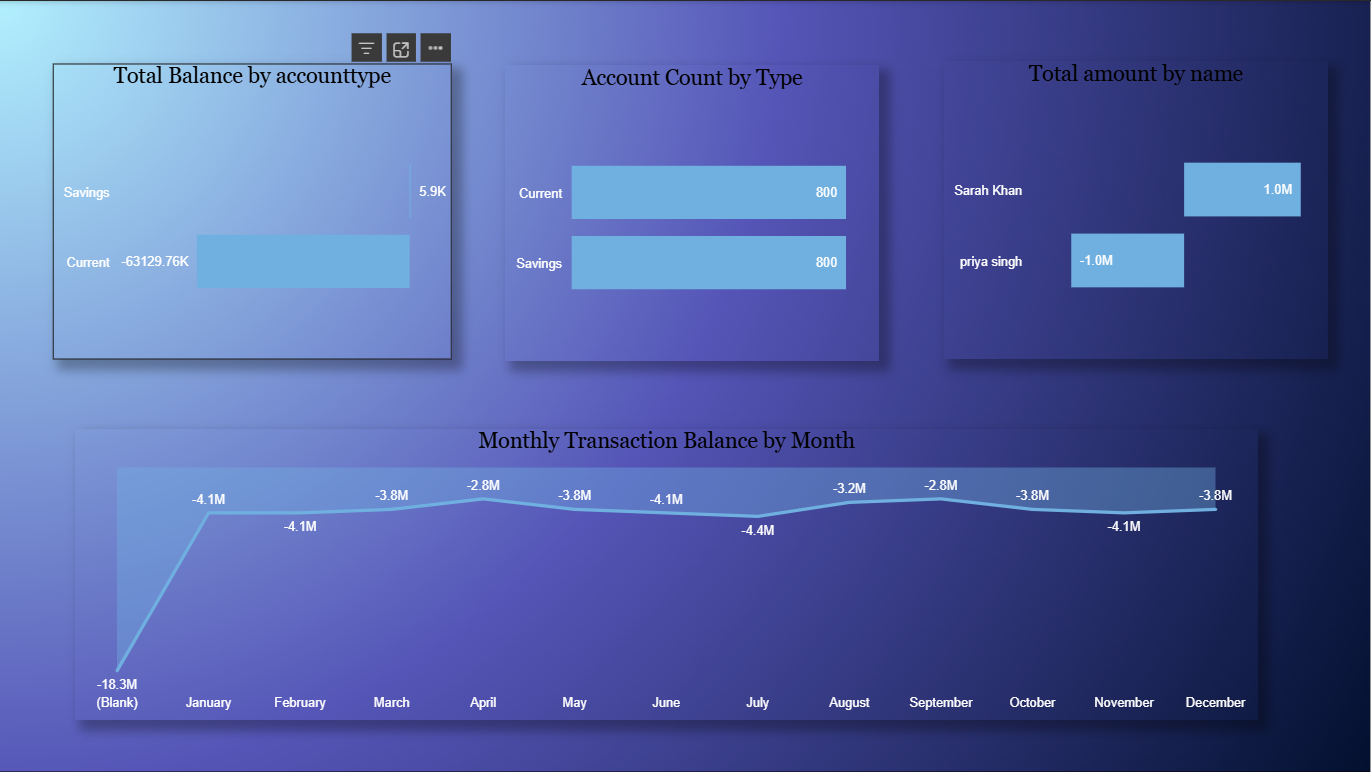

The page's visual inventory and layout, read from the dashboard file:
{"tool":"powerbi","page":{"name":"Banking data P-2","canvas":[1280,720],"ordinal":1},"visuals":[{"type":"barChart","title":"Account Count by Type ","fields":{"Category":["Combinedbankingdataset.accounttype"],"Y":["Measures table.Account Count by Type"]},"box":[475.6,59.3,347.7,275.6],"z":0},{"type":"areaChart","fields":{"Category":["Combinedbankingdataset.transactiondate.Variation.Date Hierarchy.Month"],"Y":["Measures table.Monthly Transaction Balance"]},"box":[75.6,397.7,1100,270.9],"z":1000},{"type":"barChart","fields":{"Category":["Combinedbankingdataset.accounttype"],"Y":["Measures table.Total Balance"]},"box":[54.7,58.1,370.9,275.6],"z":2000},{"type":"barChart","title":"Total amount by name","fields":{"Category":["Combinedbankingdataset.name"],"Y":["Combinedbankingdataset.amount"]},"box":[883.7,55.8,357,277.9],"z":3000}]}

Visuals, with their boxes in screenshot pixels (x1, y1, x2, y2), scaled from the page's 1280x720 canvas onto the 1371x772 screenshot:
"Account Count by Type " barChart: (509, 64, 882, 359)
areaChart - Combinedbankingdataset.transactiondate.Variation.Date Hierarchy.Month x Measures table.Monthly Transaction Balance: (81, 426, 1259, 717)
barChart - Combinedbankingdataset.accounttype x Measures table.Total Balance: (59, 62, 456, 358)
"Total amount by name" barChart: (947, 60, 1329, 358)
